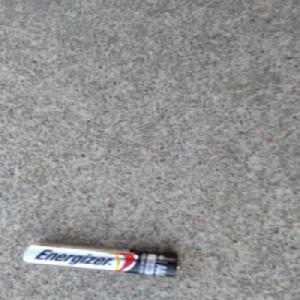Battery: (21, 240, 181, 278)
